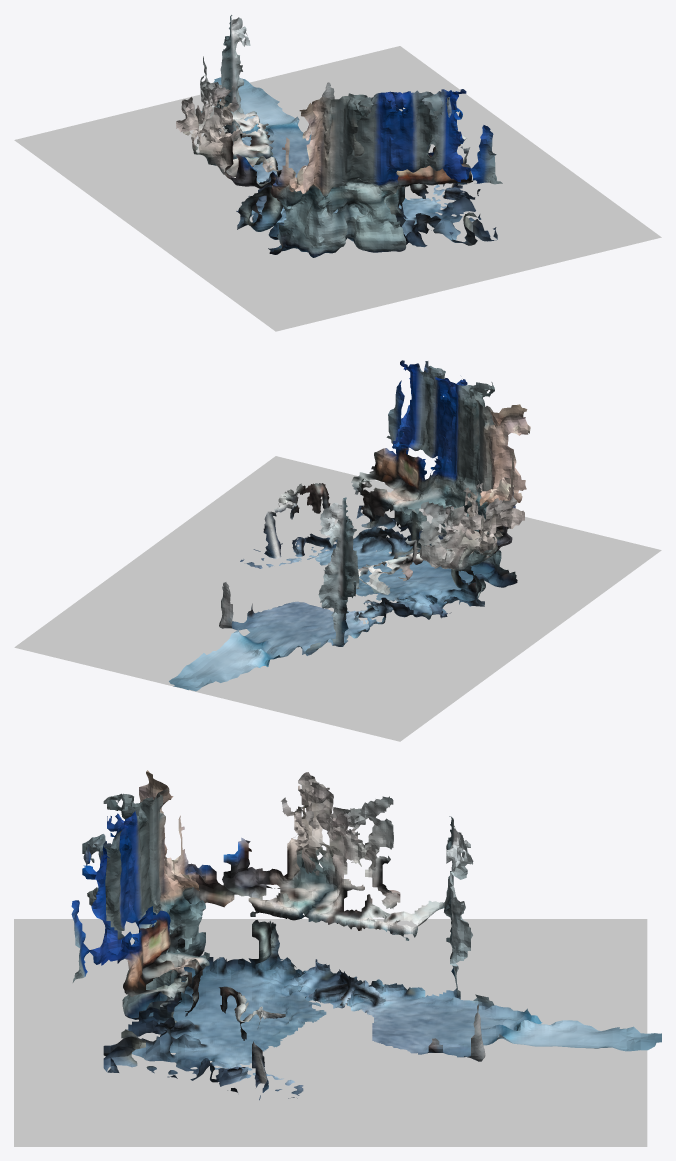
File: floor.fbx
3 views of the same model, one above another, from view 1: azimuth 30°, elevation 25°; view 2: azimuth 150°, elevation 25°; view 3: azimuth 270°, elevation 25° (orthographic). The views are drawn at different scales.
Visible parts, largest first — view 1: Plane, 50919-Testing1-dense; view 2: Plane, 50919-Testing1-dense; view 3: Plane, 50919-Testing1-dense.
Part boxes in pixels (x1,y1,x2,y2): Plane: (14,46,661,331); 50919-Testing1-dense: (176,15,502,257); Plane: (14,456,661,741); 50919-Testing1-dense: (169,360,530,691); Plane: (14,919,647,1146); 50919-Testing1-dense: (71,770,661,1100).
Size of the model in its own units: 595 by 258 by 715.
